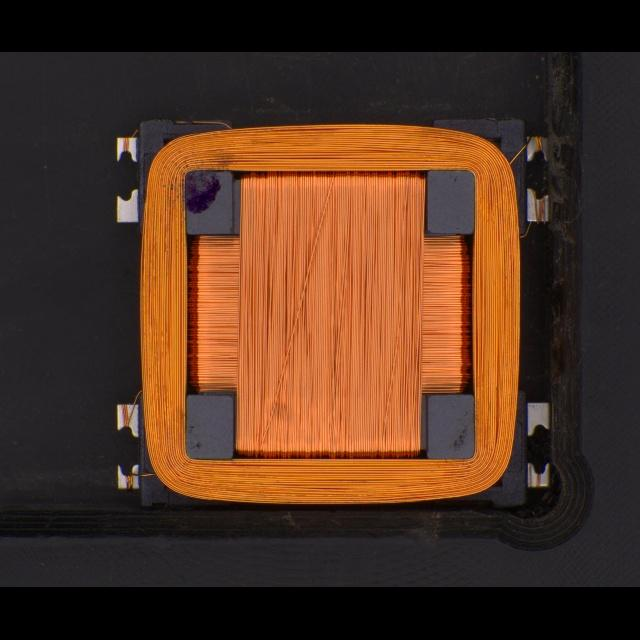Winding_Z: (135, 120, 525, 506)
